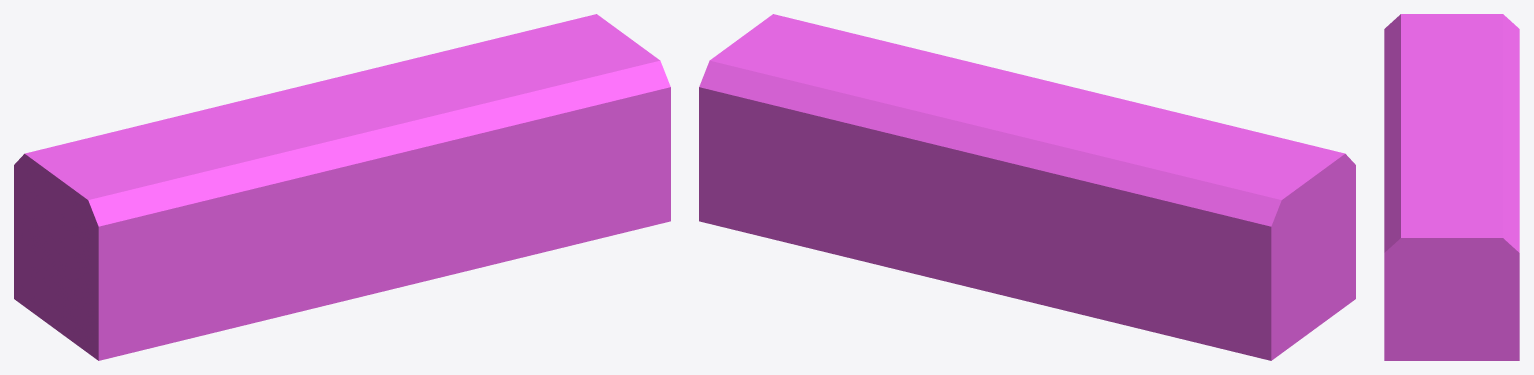
Rendered from Hedge 1.fbx.
The picture shows the model from 3 angles, left to right: view 1: azimuth 30°, elevation 25°; view 2: azimuth 150°, elevation 25°; view 3: azimuth 270°, elevation 25°; orthographic projection. The views are drawn at different scales.
Parts seen in each view (by area): view 1: Hedge 1; view 2: Hedge 1; view 3: Hedge 1.
Boxes of the visible parts, bbox=[...] form: Hedge 1: bbox=[14, 14, 670, 360]; Hedge 1: bbox=[699, 14, 1355, 360]; Hedge 1: bbox=[1384, 14, 1519, 360].
Bounding box in the file's own units: 391 × 100 × 100.
1 material, 1 textured.
